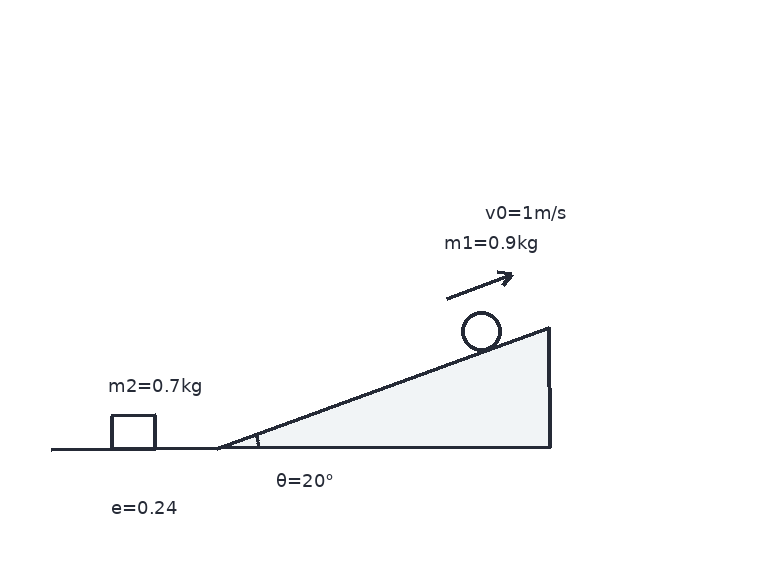ball: (459, 309, 503, 353)
block: (109, 414, 157, 450)
ramp: (216, 326, 551, 450)
